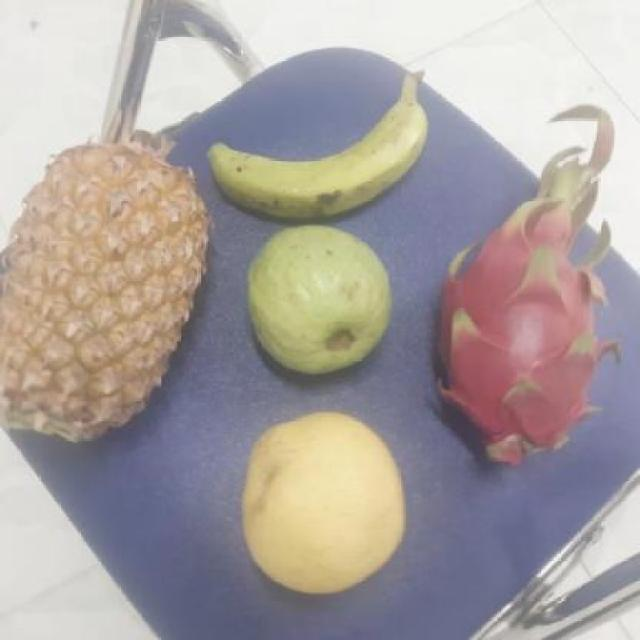banana: (204, 72, 424, 219)
dragon fruit: (422, 200, 607, 474)
guava: (239, 230, 392, 372)
pear: (226, 412, 412, 593)
pineapple: (0, 150, 205, 442)
